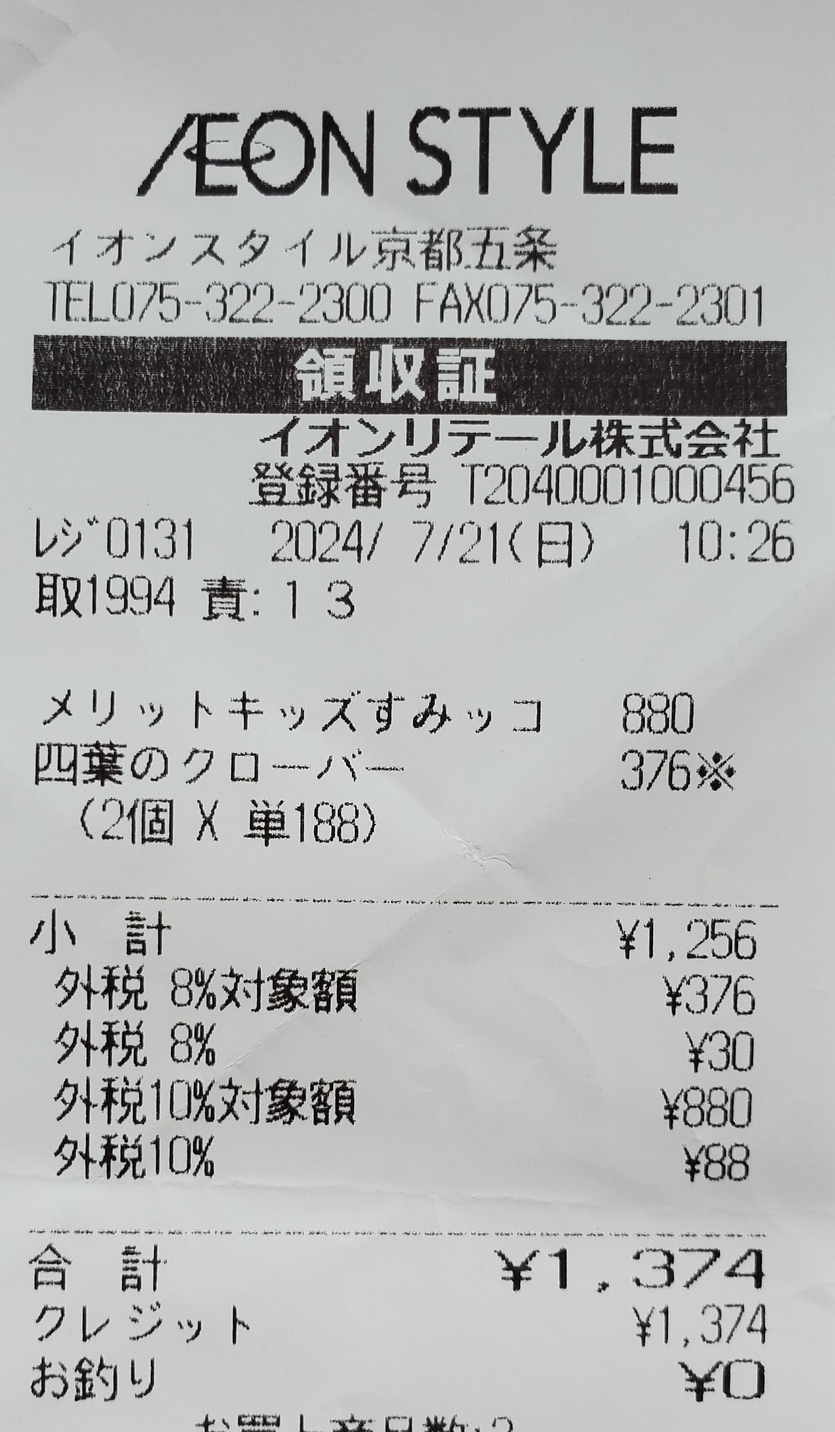Date: (259, 512, 508, 574)
Shopname: (100, 76, 705, 214)
Telnum: (102, 271, 408, 331)
Totalpay: (27, 1240, 784, 1303)
